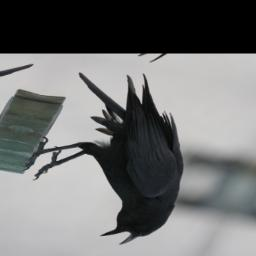Crow: (0, 62, 243, 251)
